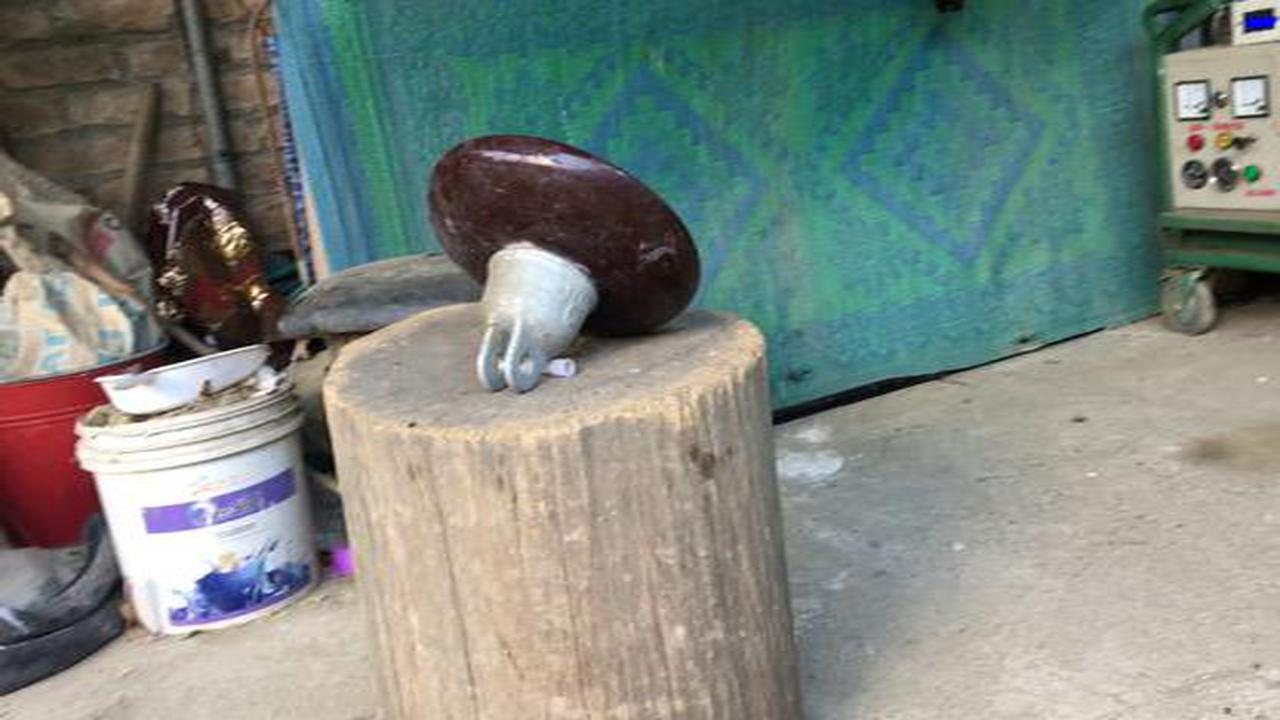insulator_disc: (422, 127, 707, 389)
